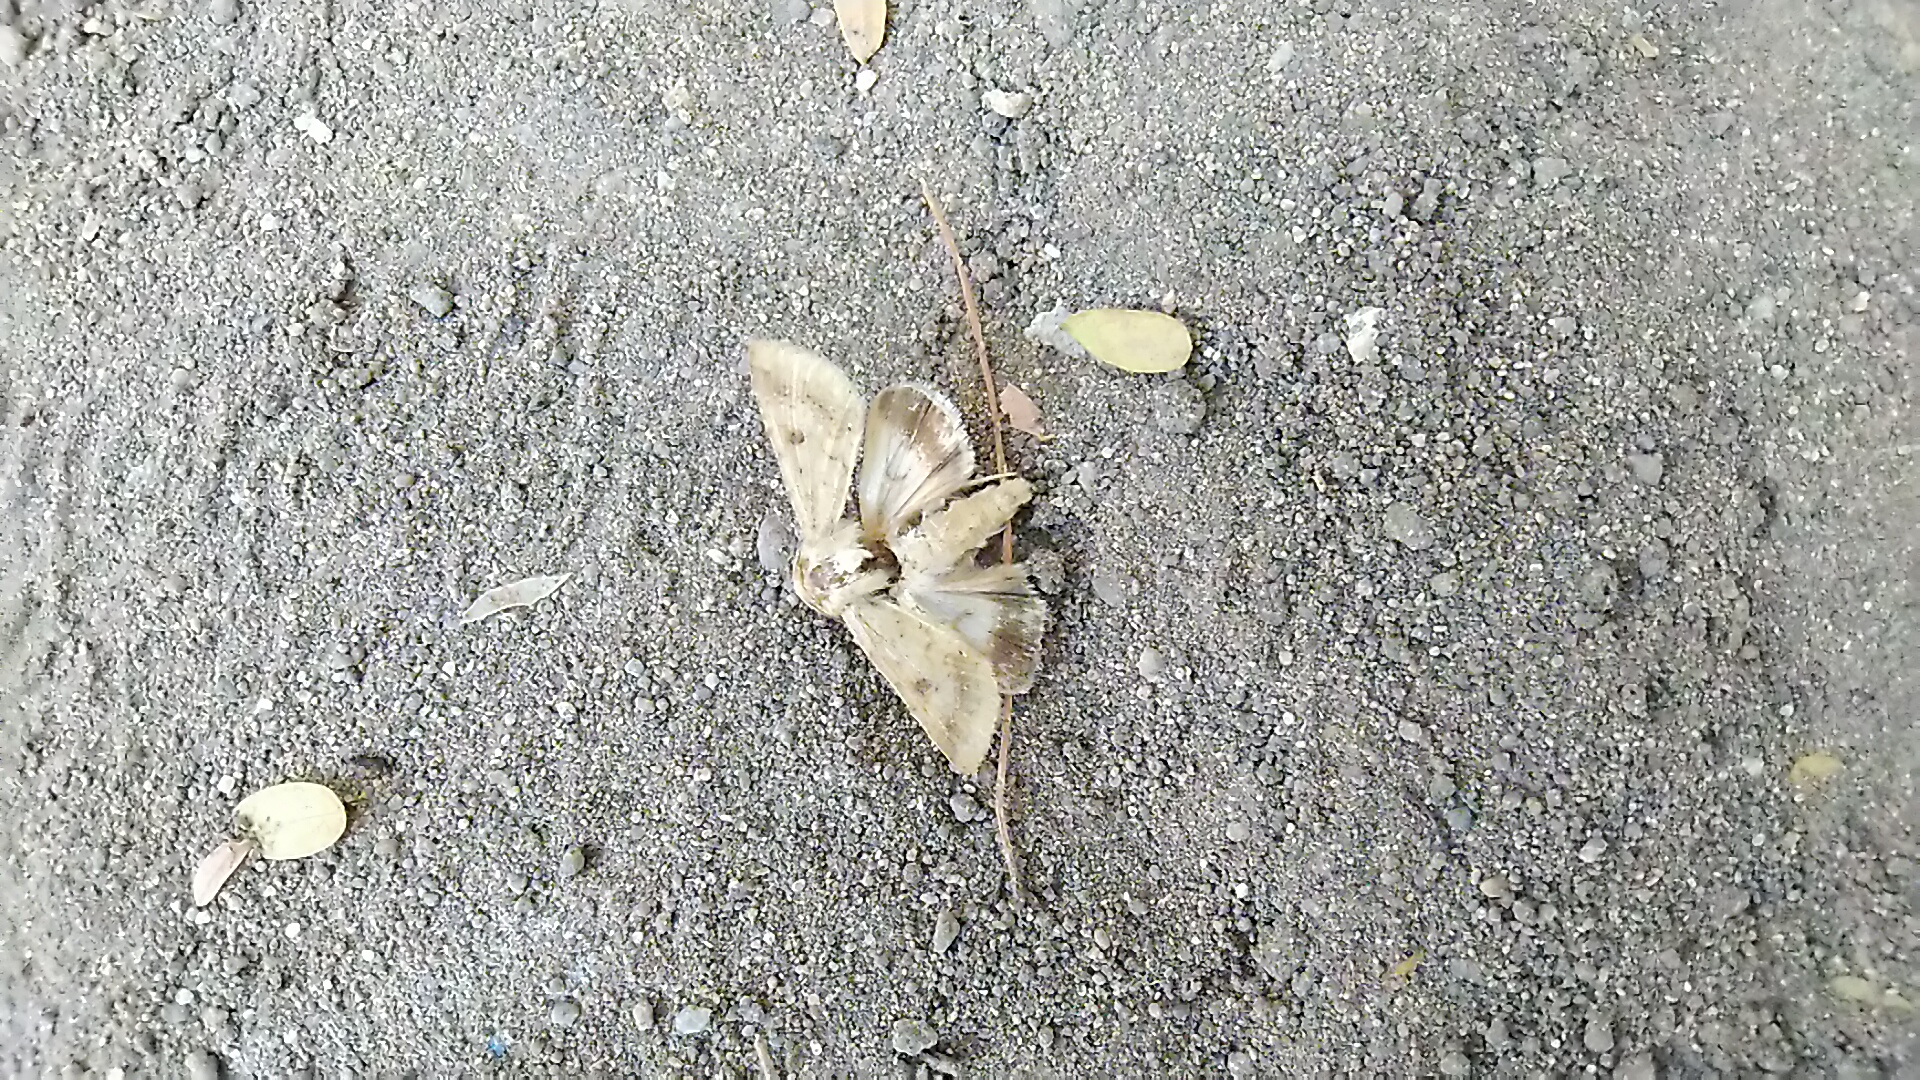INS-C: (713, 324, 1073, 769)
